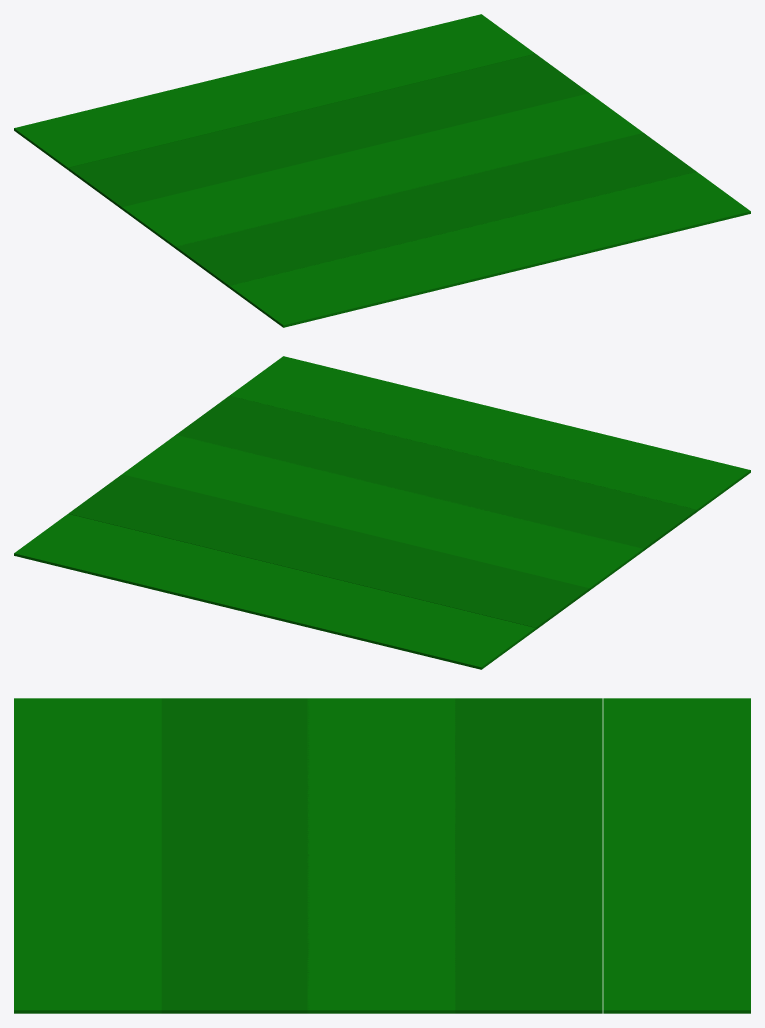
File: hola.fbx
3 views of the same model, one above another, from view 1: azimuth 30°, elevation 25°; view 2: azimuth 150°, elevation 25°; view 3: azimuth 270°, elevation 25° (orthographic). The views are drawn at different scales.
Parts seen in each view (by area): view 1: Cube; view 2: Cube; view 3: Cube.
Part boxes in pixels (box(x1,y1,x2,y2)): Cube: box(14, 14, 750, 327); Cube: box(14, 356, 750, 669); Cube: box(14, 698, 750, 1013).
Bounding box in the file's own units: 2000 × 10 × 1996.
5 materials, 5 textured.
